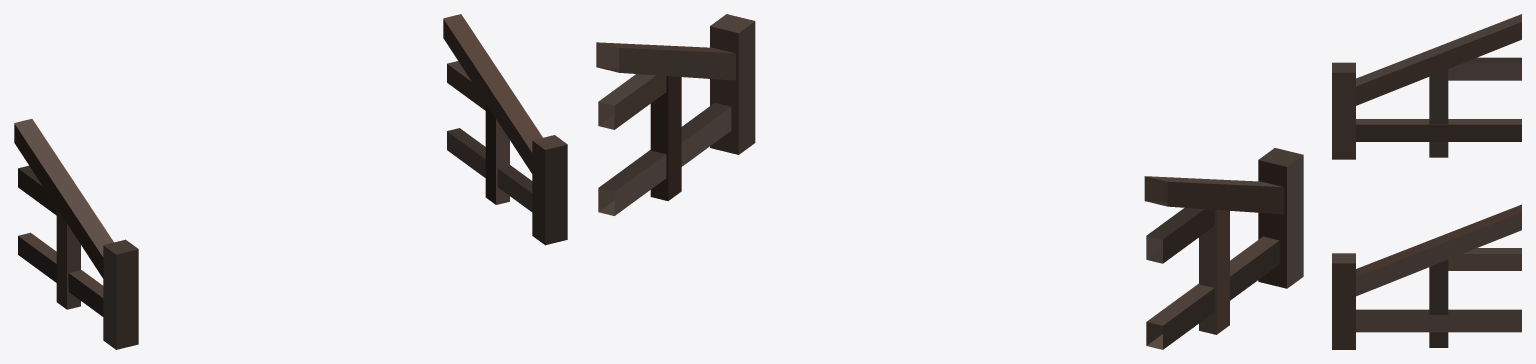
The model's file is Bridge-EndLOD1.fbx.
3 views of the same model, side by side, from view 1: azimuth 30°, elevation 25°; view 2: azimuth 150°, elevation 25°; view 3: azimuth 270°, elevation 25° (orthographic). The views are drawn at different scales.
Parts seen in each view (by area): view 1: Bridge-EndLOD1; view 2: Bridge-EndLOD1; view 3: Bridge-EndLOD1.
Part boxes in pixels (x1,y1,x2,y2): Bridge-EndLOD1: (14,14,567,349); Bridge-EndLOD1: (596,14,1303,349); Bridge-EndLOD1: (1332,14,1521,349).
Bounding box in the file's own units: 500 × 159 × 200.
